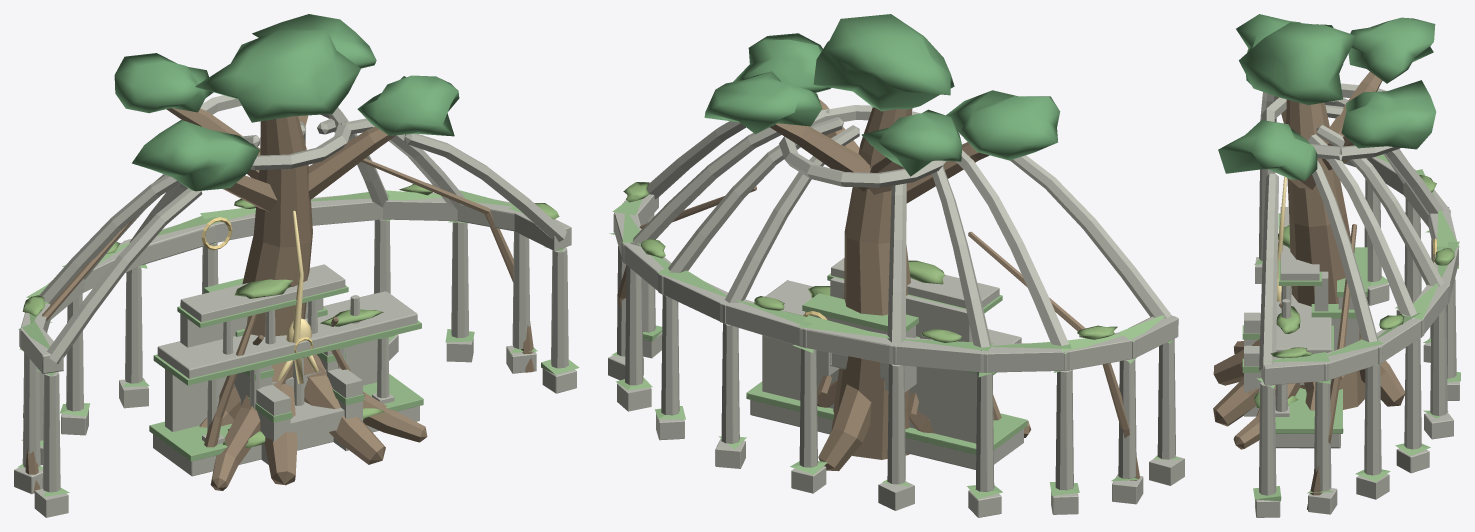
Rendered from VerdantF5Kit.fbx.
3 renders of one model, left to right at view 1: azimuth 30°, elevation 25°; view 2: azimuth 150°, elevation 25°; view 3: azimuth 270°, elevation 25°, orthographic. The views are drawn at different scales.
Parts seen in each view (by area): view 1: CenoteColonnadeDome__TRIM, HeartrootMotherHeart__FOLIAGE, HeartrootMotherHeart__WOOD, SolmereColonnadeWing__TRIM, SolmereColonnadeWing__ACCENT, CenoteCascadeSpillway__TRIM, CenoteColonnadeDome__ACCENT, CenoteColonnadeDome__WOOD, HeartrootMotherHeart__GLOW, SolmereColonnadeWing__MOSS, SolmereColonnadeWing__WOOD, CenoteCascadeSpillway__ACCENT (+1 smaller); view 2: CenoteColonnadeDome__TRIM, HeartrootMotherHeart__FOLIAGE, HeartrootMotherHeart__WOOD, SolmereColonnadeWing__TRIM, CenoteColonnadeDome__ACCENT, SolmereColonnadeWing__ACCENT, CenoteColonnadeDome__WOOD, CenoteColonnadeDome__MOSS, CenoteCascadeSpillway__ACCENT, CenoteCascadeSpillway__TRIM, SolmereColonnadeWing__MOSS; view 3: CenoteColonnadeDome__TRIM, HeartrootMotherHeart__FOLIAGE, HeartrootMotherHeart__WOOD, SolmereColonnadeWing__TRIM, CenoteColonnadeDome__ACCENT, SolmereColonnadeWing__ACCENT, CenoteCascadeSpillway__TRIM, CenoteColonnadeDome__WOOD, CenoteCascadeSpillway__ACCENT, CenoteColonnadeDome__MOSS, SolmereColonnadeWing__MOSS, HeartrootMotherHeart__GLOW.
Part boxes in pixels (left/top/right/bottom): CenoteColonnadeDome__TRIM: left=14, top=95, right=576, bottom=517; HeartrootMotherHeart__FOLIAGE: left=114, top=14, right=459, bottom=191; HeartrootMotherHeart__WOOD: left=166, top=108, right=427, bottom=490; SolmereColonnadeWing__TRIM: left=153, top=264, right=419, bottom=476; SolmereColonnadeWing__ACCENT: left=149, top=285, right=423, bottom=461; CenoteCascadeSpillway__TRIM: left=234, top=349, right=362, bottom=464; CenoteColonnadeDome__ACCENT: left=17, top=190, right=579, bottom=496; CenoteColonnadeDome__WOOD: left=23, top=158, right=534, bottom=492; HeartrootMotherHeart__GLOW: left=277, top=210, right=318, bottom=384; SolmereColonnadeWing__MOSS: left=234, top=279, right=383, bottom=326; SolmereColonnadeWing__WOOD: left=204, top=314, right=365, bottom=447; CenoteCascadeSpillway__ACCENT: left=204, top=278, right=364, bottom=422; CenoteColonnadeDome__TRIM: left=608, top=105, right=1184, bottom=517; HeartrootMotherHeart__FOLIAGE: left=704, top=14, right=1060, bottom=176; HeartrootMotherHeart__WOOD: left=770, top=99, right=1031, bottom=471; SolmereColonnadeWing__TRIM: left=750, top=257, right=1023, bottom=469; CenoteColonnadeDome__ACCENT: left=609, top=199, right=1181, bottom=498; SolmereColonnadeWing__ACCENT: left=746, top=273, right=1027, bottom=454; CenoteColonnadeDome__WOOD: left=617, top=186, right=1139, bottom=480; CenoteColonnadeDome__MOSS: left=623, top=182, right=1117, bottom=342; CenoteCascadeSpillway__ACCENT: left=802, top=293, right=919, bottom=338; CenoteCascadeSpillway__TRIM: left=805, top=311, right=916, bottom=392; SolmereColonnadeWing__MOSS: left=808, top=260, right=944, bottom=297; CenoteColonnadeDome__TRIM: left=1255, top=83, right=1459, bottom=517; HeartrootMotherHeart__FOLIAGE: left=1218, top=14, right=1436, bottom=180; HeartrootMotherHeart__WOOD: left=1213, top=71, right=1404, bottom=449; SolmereColonnadeWing__TRIM: left=1275, top=207, right=1340, bottom=448; CenoteColonnadeDome__ACCENT: left=1253, top=154, right=1460, bottom=501; SolmereColonnadeWing__ACCENT: left=1275, top=213, right=1343, bottom=433; CenoteCascadeSpillway__TRIM: left=1244, top=297, right=1359, bottom=416; CenoteColonnadeDome__WOOD: left=1307, top=224, right=1356, bottom=511; CenoteCascadeSpillway__ACCENT: left=1242, top=247, right=1367, bottom=372; CenoteColonnadeDome__MOSS: left=1270, top=175, right=1454, bottom=358; SolmereColonnadeWing__MOSS: left=1276, top=225, right=1300, bottom=333; HeartrootMotherHeart__GLOW: left=1277, top=177, right=1286, bottom=301.
Bounding box in the file's own units: 126 × 90.59 × 53.66.
